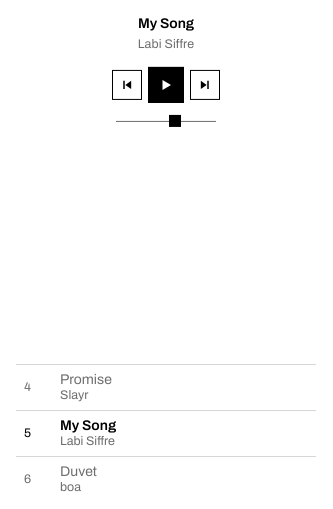
Test: AudioRing › changing song › skips forward and back with the buttons in the ring, wrapping at the ends
The width and height of the screenshot is (333, 509).
Click the button named "Next song".
click(205, 85)  # box [190, 70, 220, 100]
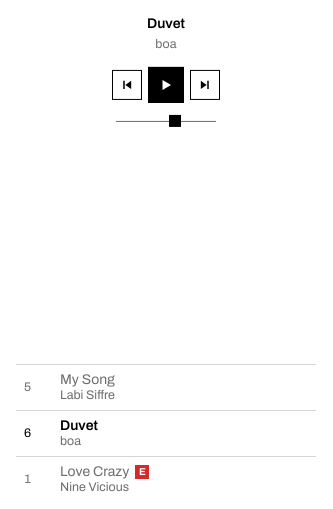
Now the text with class "ring-title" reads "Duvet", box [147, 16, 185, 31]
Click the button named "Previous song".
click(127, 85)  # box [112, 70, 142, 100]
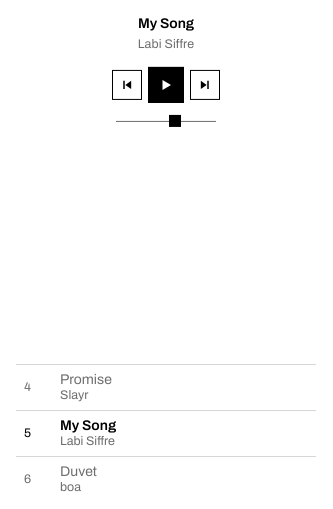
Click the button named "Previous song".
click(127, 85)  # box [112, 70, 142, 100]
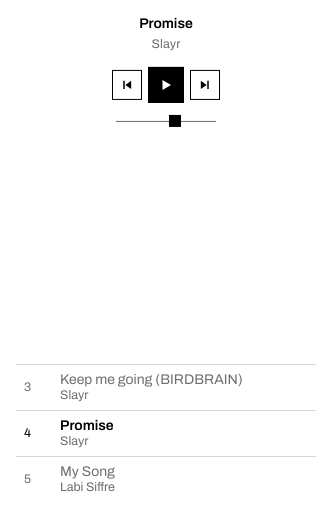
Now the text with class "ring-title" reads "Promise", box [139, 16, 193, 31]
